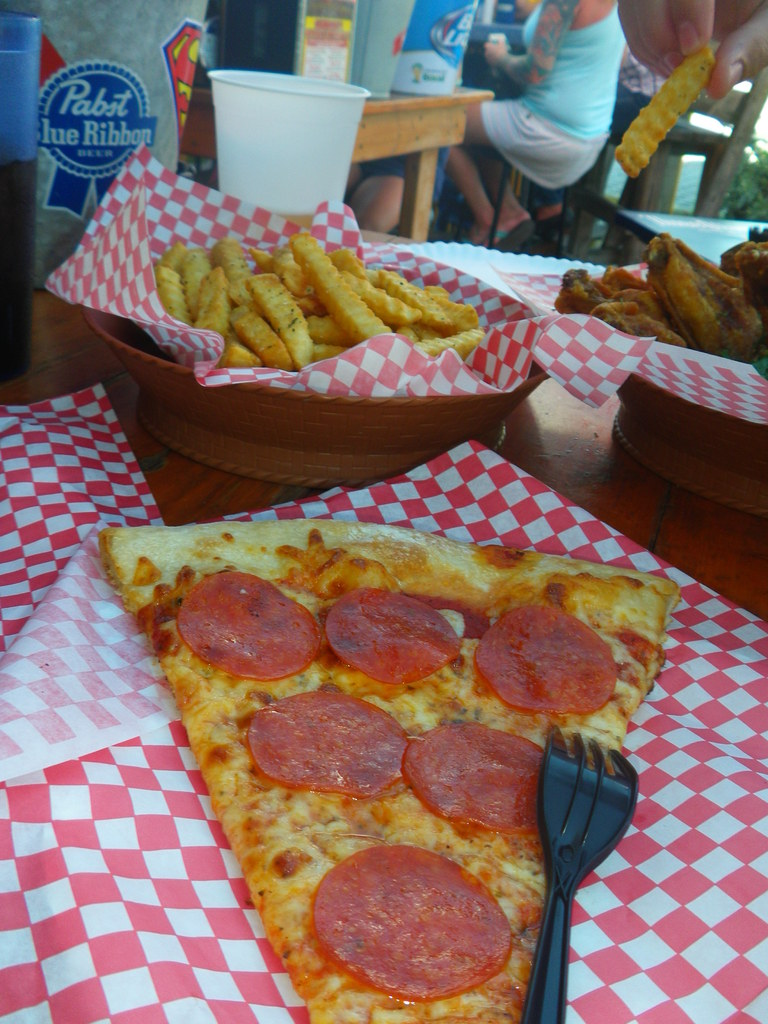French fries: (151, 206, 464, 373)
